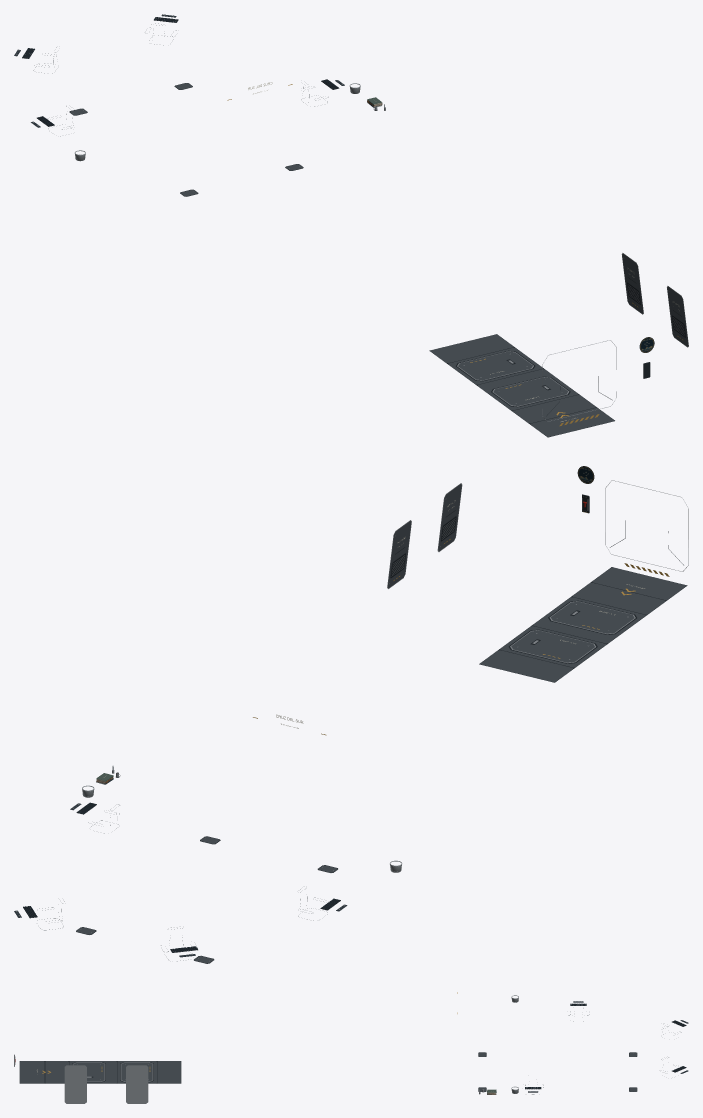
The model's file is cruz-del-sur-cabin-details.glb.
3 views of the same model, one above another, from view 1: azimuth 30°, elevation 25°; view 2: azimuth 150°, elevation 25°; view 3: azimuth 270°, elevation 25° (orthographic). The views are drawn at different scales.
Visible parts, largest first — view 1: REFINED_arrival_static_CDS DETAIL_Graphite deck - restrained, REFINED_arrival_static_CDS DETAIL_Recesses and gaskets, REFINED_arrival_static_CDS DETAIL_Pressure panel warm graphi, REFINED_arrival_static_CDS DETAIL_Brushed steel rebates; view 2: REFINED_arrival_static_CDS DETAIL_Graphite deck - restrained, REFINED_arrival_static_CDS DETAIL_Recesses and gaskets, REFINED_arrival_static_CDS DETAIL_Pressure panel warm graphi, REFINED_arrival_static_CDS DETAIL_Brushed steel rebates; view 3: REFINED_arrival_static_CDS DETAIL_Graphite deck - restrained, REFINED_arrival_static_CDS DETAIL_Brushed steel rebates, REFINED_arrival_static_CDS DETAIL_Recesses and gaskets.
Part boxes in pixels (x1,y1,x2,y2): REFINED_arrival_static_CDS DETAIL_Graphite deck - restrained: [430, 334, 614, 436]; REFINED_arrival_static_CDS DETAIL_Recesses and gaskets: [429, 277, 685, 437]; REFINED_arrival_static_CDS DETAIL_Pressure panel warm graphi: [622, 254, 688, 346]; REFINED_arrival_static_CDS DETAIL_Brushed steel rebates: [457, 253, 688, 421]; REFINED_arrival_static_CDS DETAIL_Graphite deck - restrained: [480, 567, 685, 682]; REFINED_arrival_static_CDS DETAIL_Recesses and gaskets: [390, 510, 687, 682]; REFINED_arrival_static_CDS DETAIL_Pressure panel warm graphi: [387, 484, 461, 587]; REFINED_arrival_static_CDS DETAIL_Brushed steel rebates: [387, 480, 688, 663]; REFINED_arrival_static_CDS DETAIL_Graphite deck - restrained: [20, 1061, 180, 1083]; REFINED_arrival_static_CDS DETAIL_Brushed steel rebates: [64, 1062, 153, 1103]; REFINED_arrival_static_CDS DETAIL_Recesses and gaskets: [19, 1061, 181, 1083].
Bounding box in the file's own units: 8.45 × 3.07 × 25.31.
Materials: 23 (2 with a texture image).
